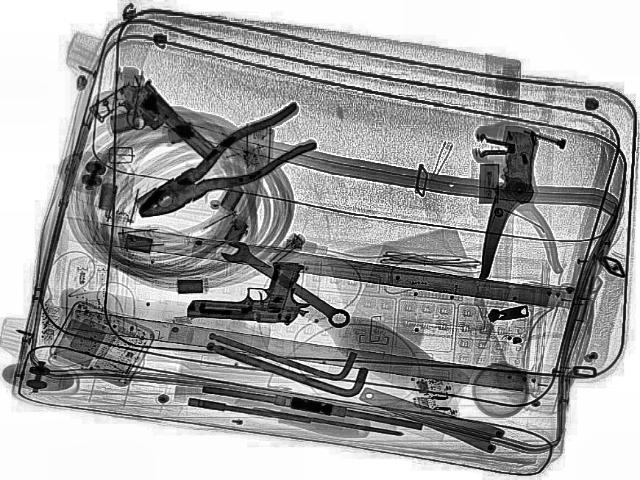Gun: (80, 74, 224, 184), (184, 256, 318, 324)
Pliers: (114, 100, 336, 228)
Wrench: (212, 236, 356, 332)
